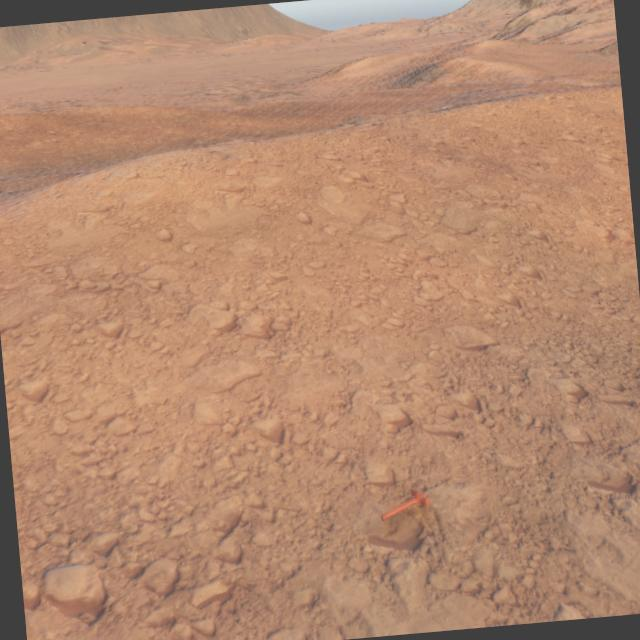newhammer: (378, 487, 431, 521)
